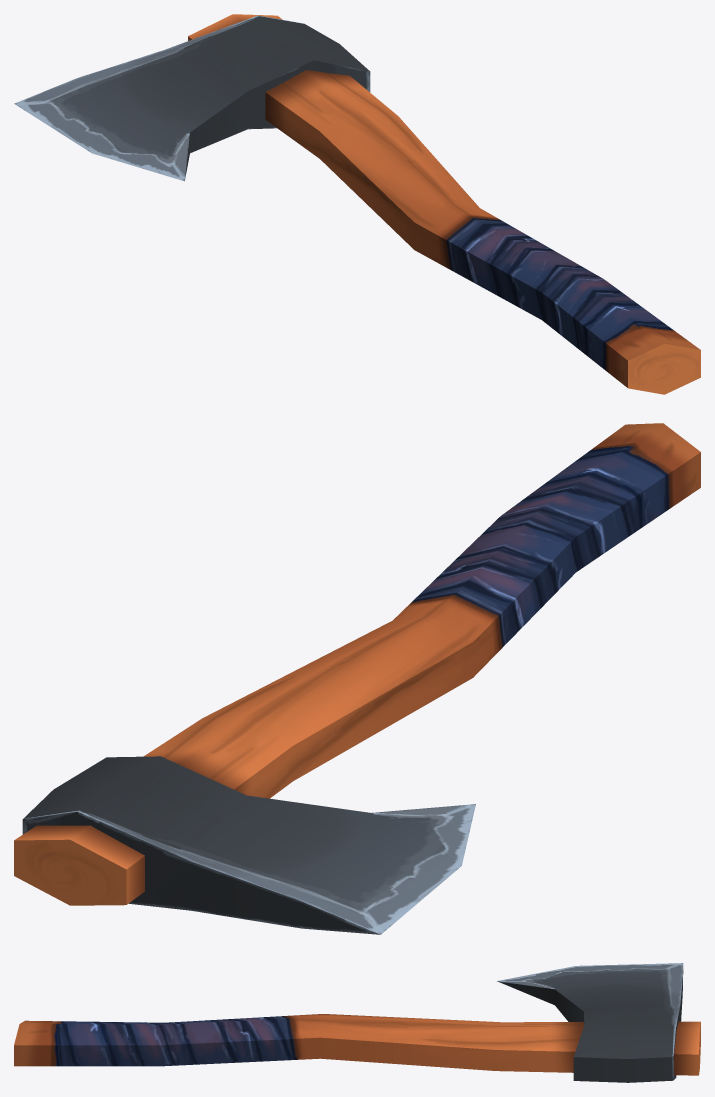
File: wp_axe.fbx
The picture shows the model from 3 angles, top to bottom: view 1: azimuth 30°, elevation 25°; view 2: azimuth 150°, elevation 25°; view 3: azimuth 270°, elevation 25°; orthographic projection. The views are drawn at different scales.
Visible parts, largest first — view 1: wp_axe; view 2: wp_axe; view 3: wp_axe.
Part boxes in pixels (left/top/right/bottom): wp_axe: left=14, top=14, right=700, bottom=394; wp_axe: left=14, top=423, right=700, bottom=934; wp_axe: left=14, top=963, right=700, bottom=1082.
Bounding box in the file's own units: 22.64 × 5 × 60.91.
